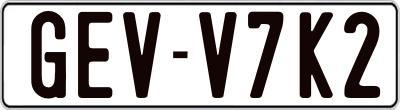2: (343, 9, 379, 101)
7: (246, 12, 286, 102)
E: (77, 10, 111, 100)
G: (28, 8, 68, 101)
K: (298, 9, 336, 98)
V: (197, 12, 238, 103), (120, 12, 161, 102)
